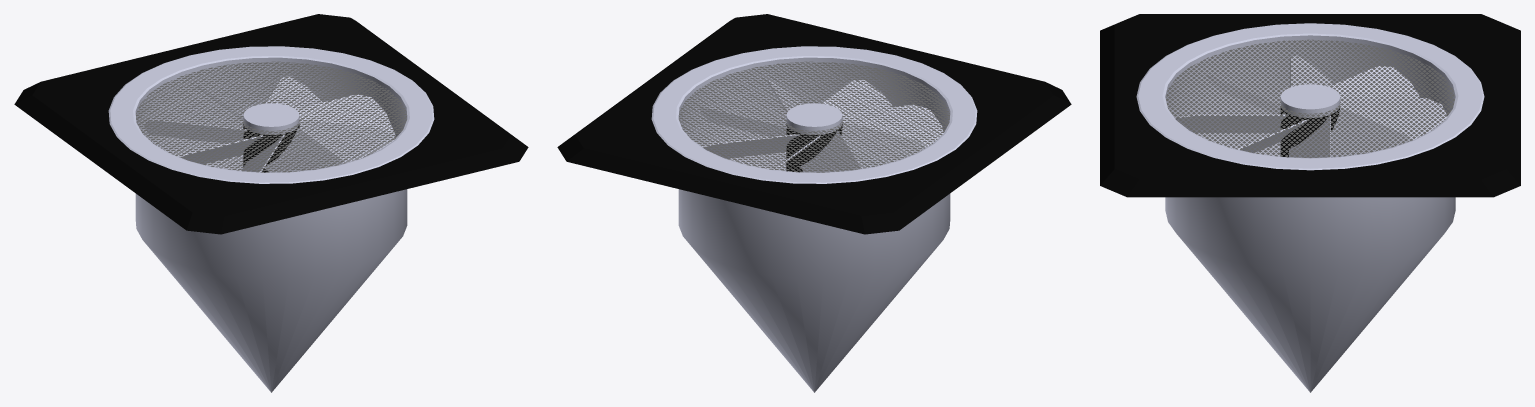
Rendered from Small_Fan_GEO.fbx.
3 views of the same model, side by side, from view 1: azimuth 30°, elevation 25°; view 2: azimuth 150°, elevation 25°; view 3: azimuth 270°, elevation 25° (orthographic). The views are drawn at different scales.
Visible parts, largest first — view 1: Fan_Frame, Grating1, FanBlades; view 2: Fan_Frame, Grating1, FanBlades; view 3: Fan_Frame, Grating1, FanBlades.
Boxes of the visible parts, x1=… form: Fan_Frame: x1=14, y1=14, x2=528, y2=392; Grating1: x1=136, y1=61, x2=406, y2=172; FanBlades: x1=144, y1=76, x2=395, y2=172; Fan_Frame: x1=557, y1=14, x2=1071, y2=392; Grating1: x1=679, y1=61, x2=949, y2=172; FanBlades: x1=700, y1=79, x2=943, y2=172; Fan_Frame: x1=1100, y1=14, x2=1520, y2=392; Grating1: x1=1166, y1=39, x2=1454, y2=157; FanBlades: x1=1176, y1=55, x2=1447, y2=157.
Bounding box in the file's own units: 766 × 596 × 766.
